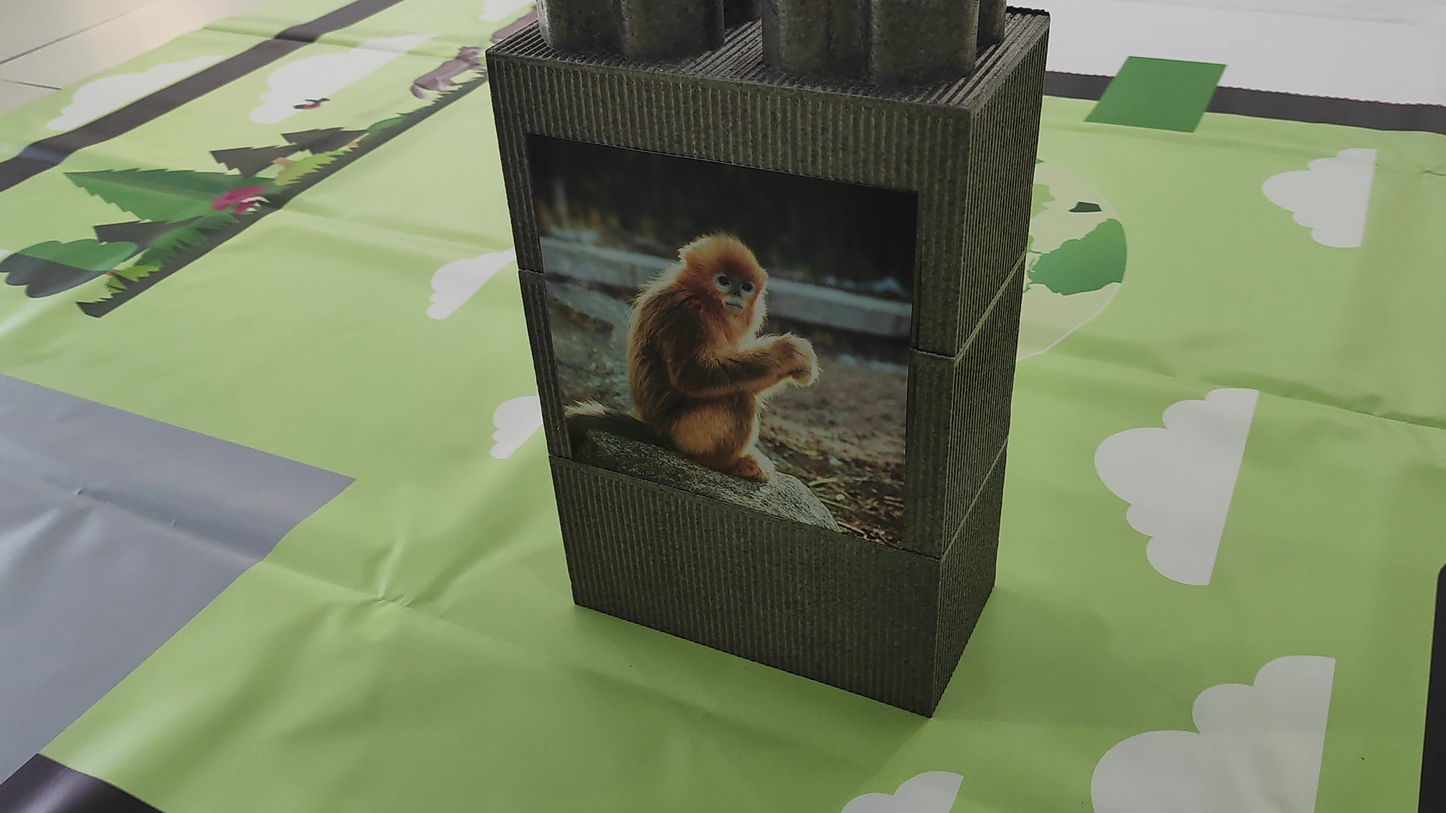monkey: (549, 183, 863, 494)
